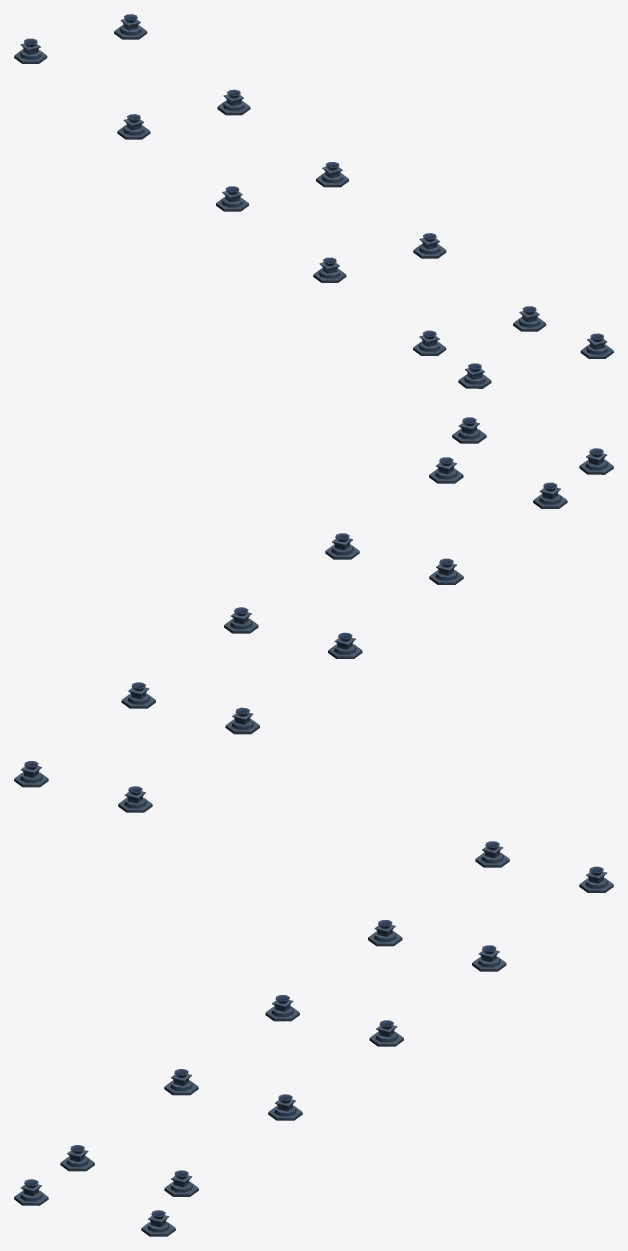
File: wujian28.fbx
3 renders of one model, top to bottom at view 1: azimuth 30°, elevation 25°; view 2: azimuth 150°, elevation 25°; view 3: azimuth 330°, elevation 25°, orthographic. The views are drawn at different scales.
Visible parts, largest first — view 1: wujian28; view 2: wujian28; view 3: wujian28.
Part boxes in pixels (<box>): wujian28: <box>14,14,613,388</box>; wujian28: <box>14,417,613,812</box>; wujian28: <box>14,841,613,1236</box>.
Bounding box in the file's own units: 1325 × 141 × 7151.
Materials: 1 (1 with a texture image).
